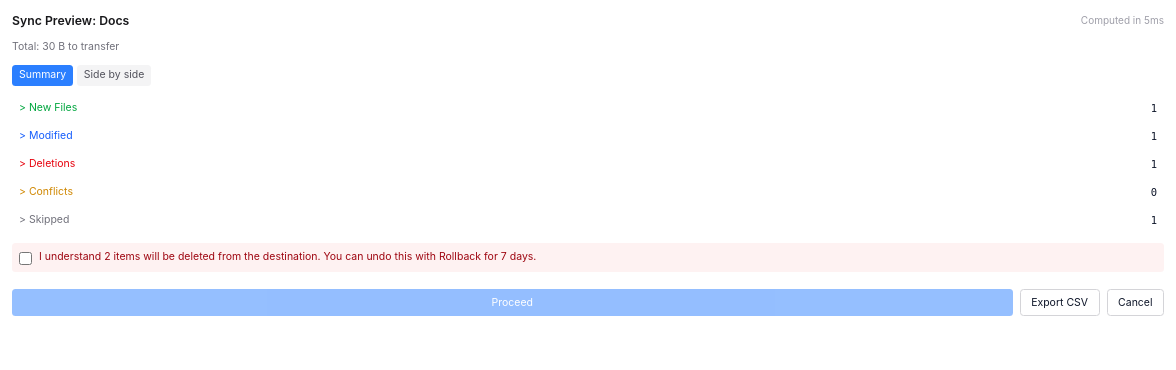
Test: PreviewView delete confirmation › switches to the side-by-side tab
The image size is (1176, 370).
Click the tab "Side by side" at (114, 75), box [77,64,151,86]
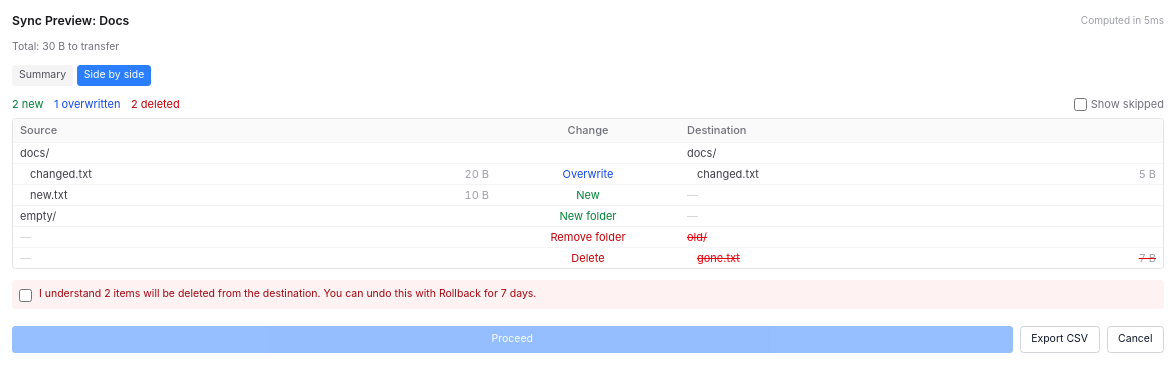
Expected: the element with test id "sync-comparison" is shown, [12,96,1164,269]
